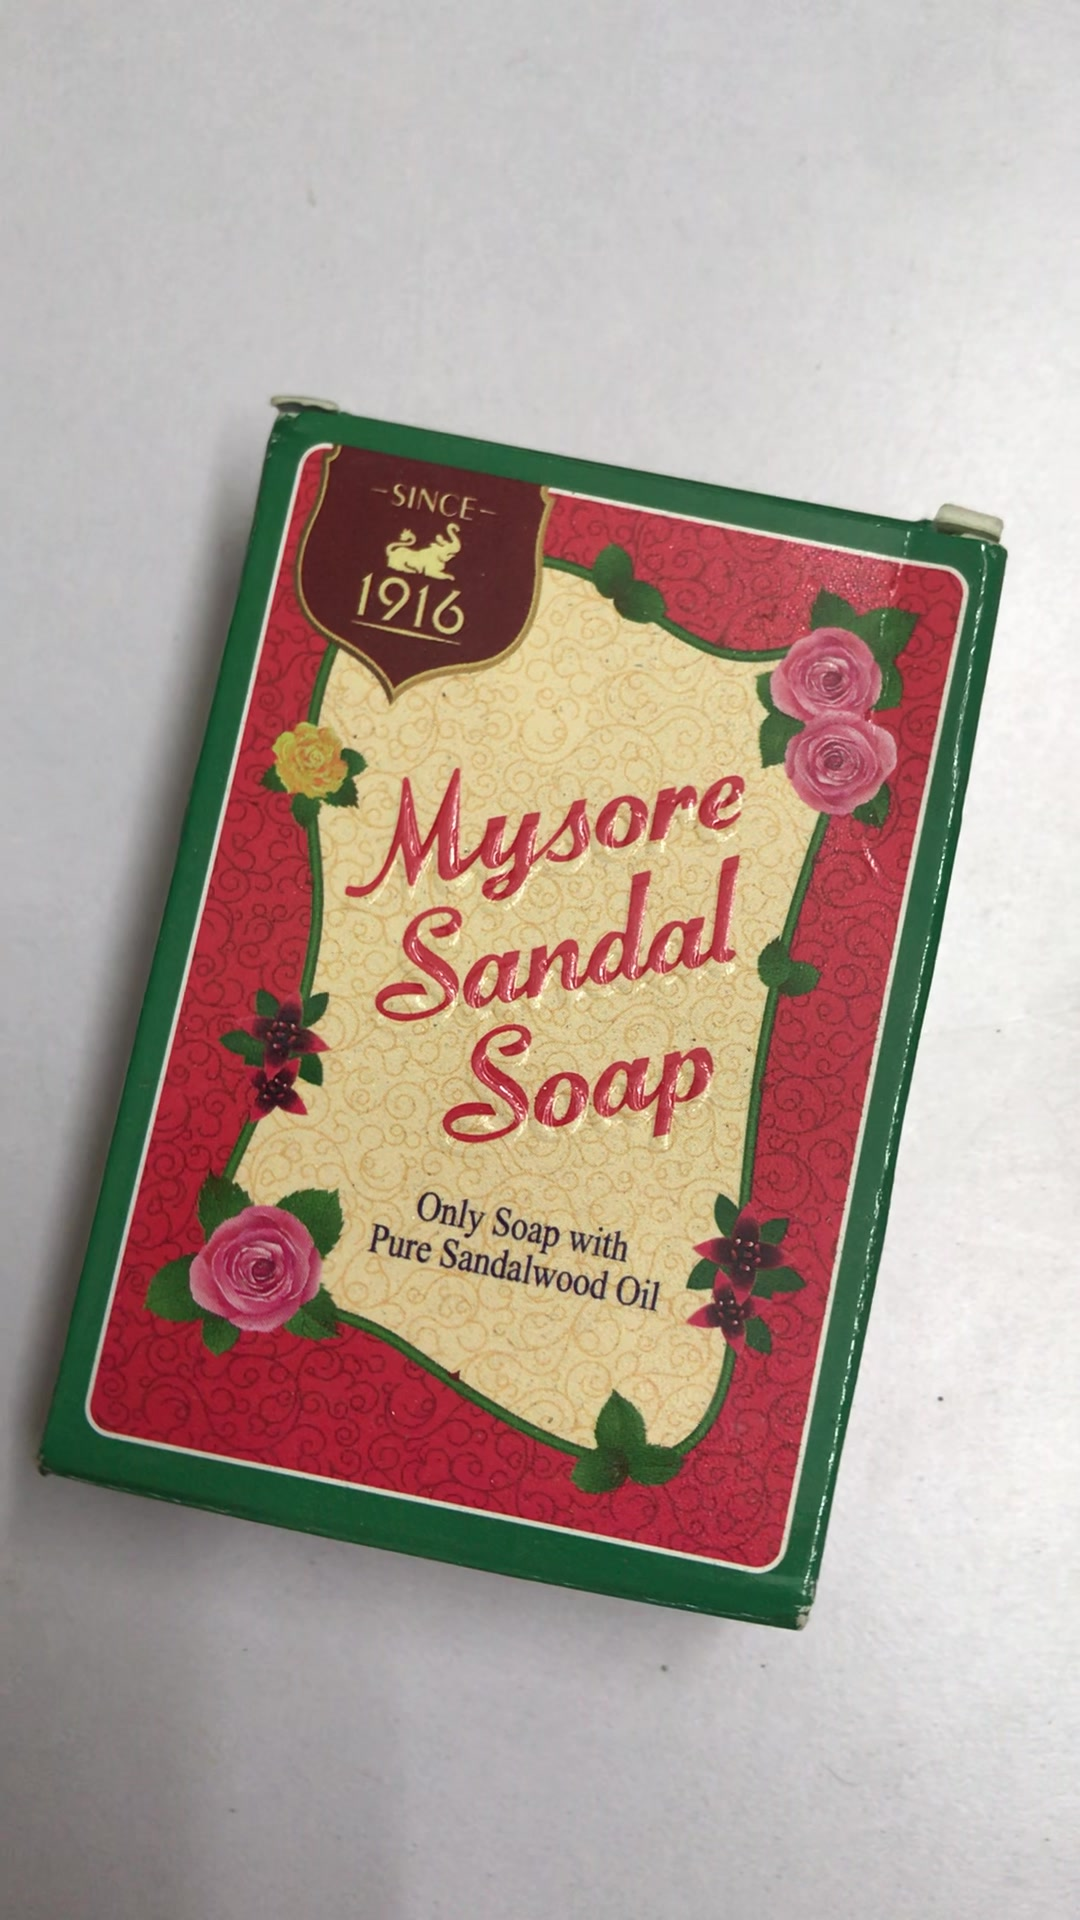mysore sandal soap: (36, 407, 1005, 1629)
